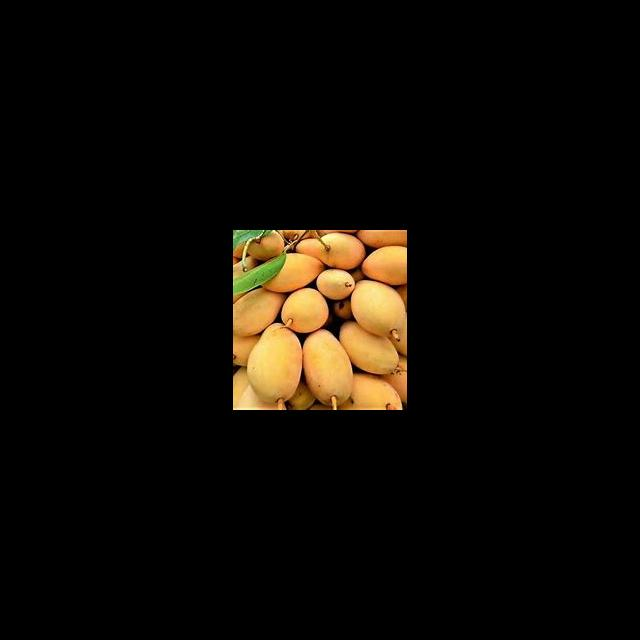mango: (246, 324, 302, 404), (302, 330, 353, 410), (350, 280, 407, 341), (339, 319, 399, 374), (338, 370, 404, 410), (233, 289, 285, 337), (263, 253, 325, 293), (281, 288, 329, 334), (317, 233, 366, 271), (362, 246, 407, 287), (317, 269, 355, 300), (356, 230, 407, 248)
